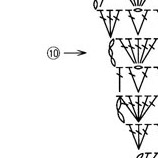enseble_chain: (114, 32, 143, 70), (114, 92, 143, 128), (131, 34, 158, 70), (130, 65, 158, 98), (130, 8, 158, 39), (122, 64, 144, 95), (120, 8, 143, 37), (103, 9, 123, 38), (111, 66, 129, 93), (63, 45, 89, 61), (131, 123, 147, 149), (106, 40, 120, 68), (46, 45, 60, 61)
